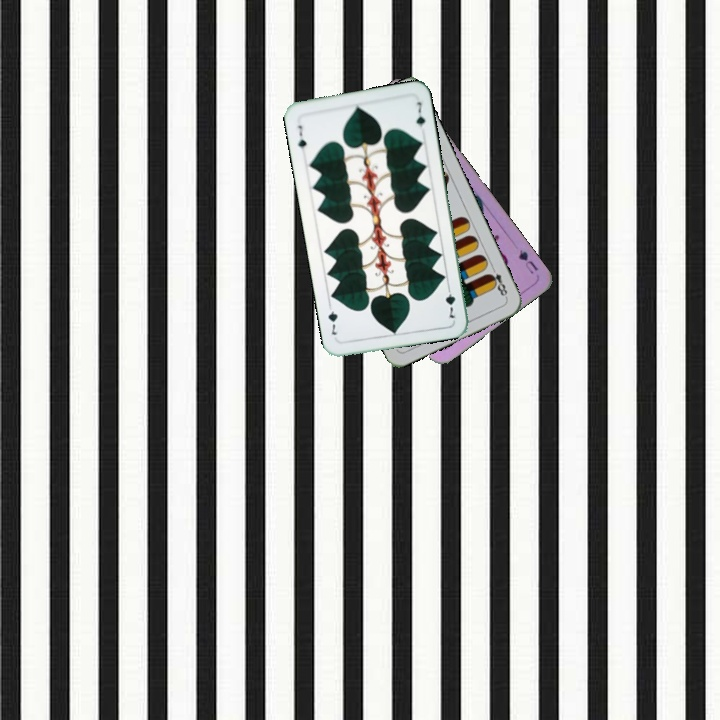E8: (484, 262, 510, 301)
G7: (441, 281, 458, 321), (294, 121, 309, 151)
GU: (514, 246, 541, 277)
